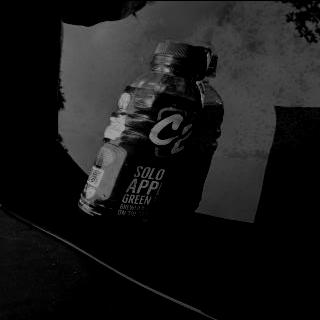bottle: (76, 39, 208, 228)
